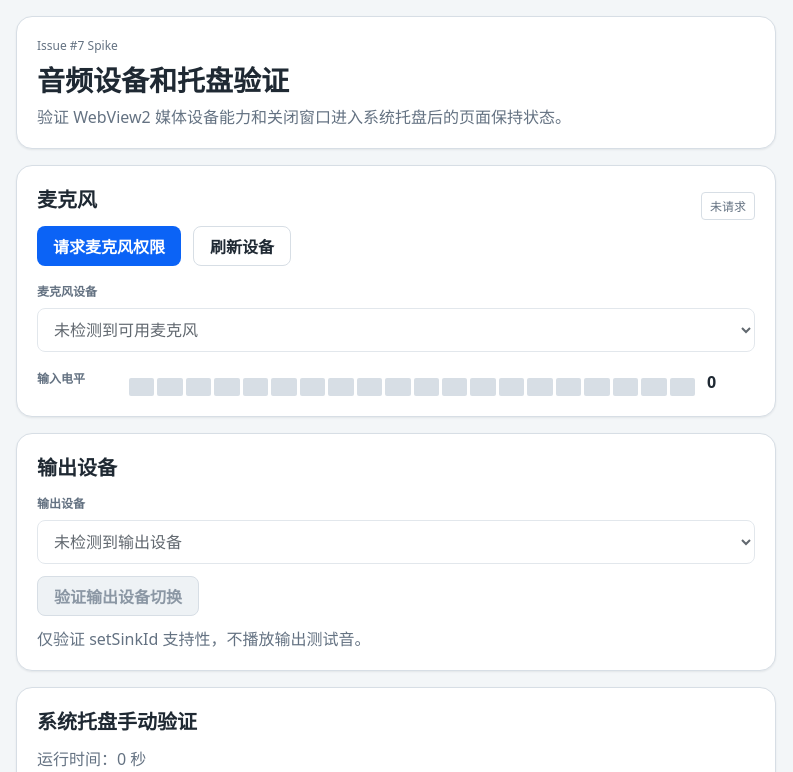
DeviceTraySpike › shows a clear permission failure message when getUserMedia rejects
Click the button "请求麦克风权限".
click(109, 246)  # box [37,226,181,266]
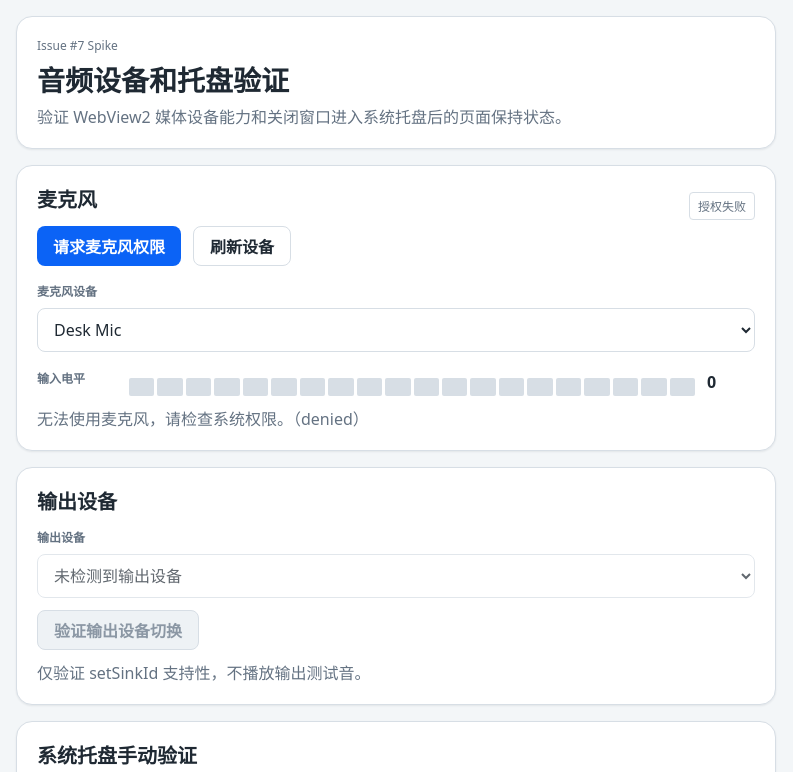
Check: the text "无法使用麦克风，请检查系统权限。（denied）" is shown, box [37,408,369,430]
Check: the text "授权失败" is shown, box [689,192,755,220]
